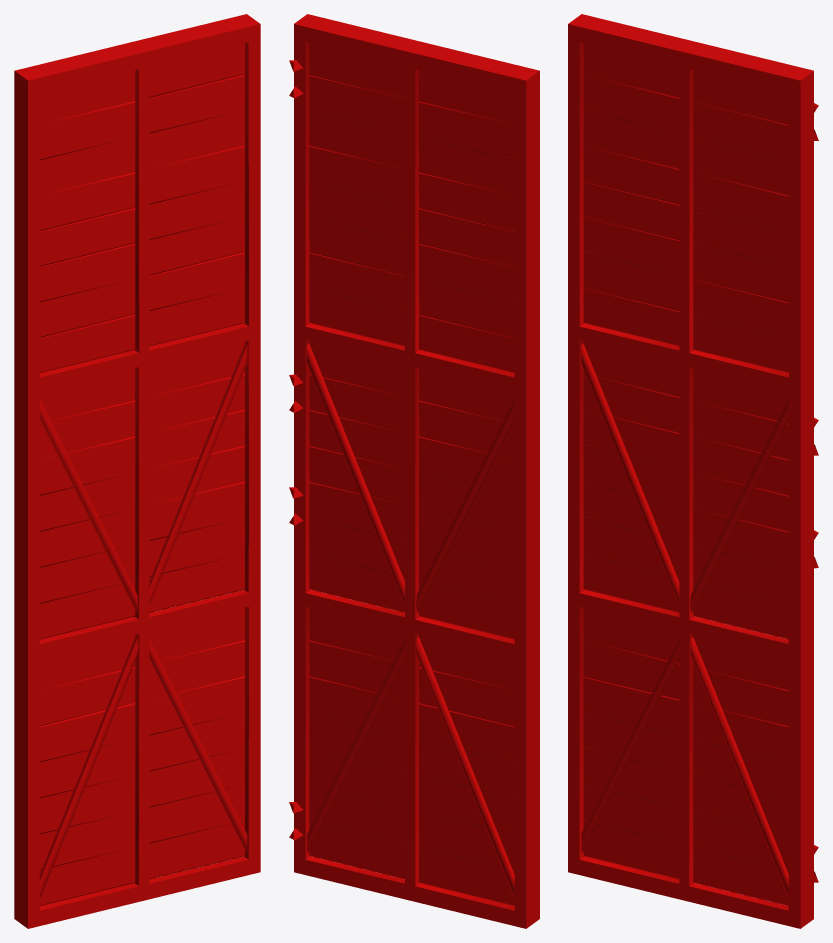
3 renders of one model, left to right at view 1: azimuth 30°, elevation 25°; view 2: azimuth 150°, elevation 25°; view 3: azimuth 330°, elevation 25°, orthographic.
Visible parts, largest first — view 1: Mesh; view 2: Mesh; view 3: Mesh.
Boxes of the visible parts, bbox=[...] form: Mesh: bbox=[14, 14, 260, 928]; Mesh: bbox=[289, 14, 539, 928]; Mesh: bbox=[568, 14, 818, 928].
Size of the model in its own units: 6.07 by 20.92 by 0.8015.
